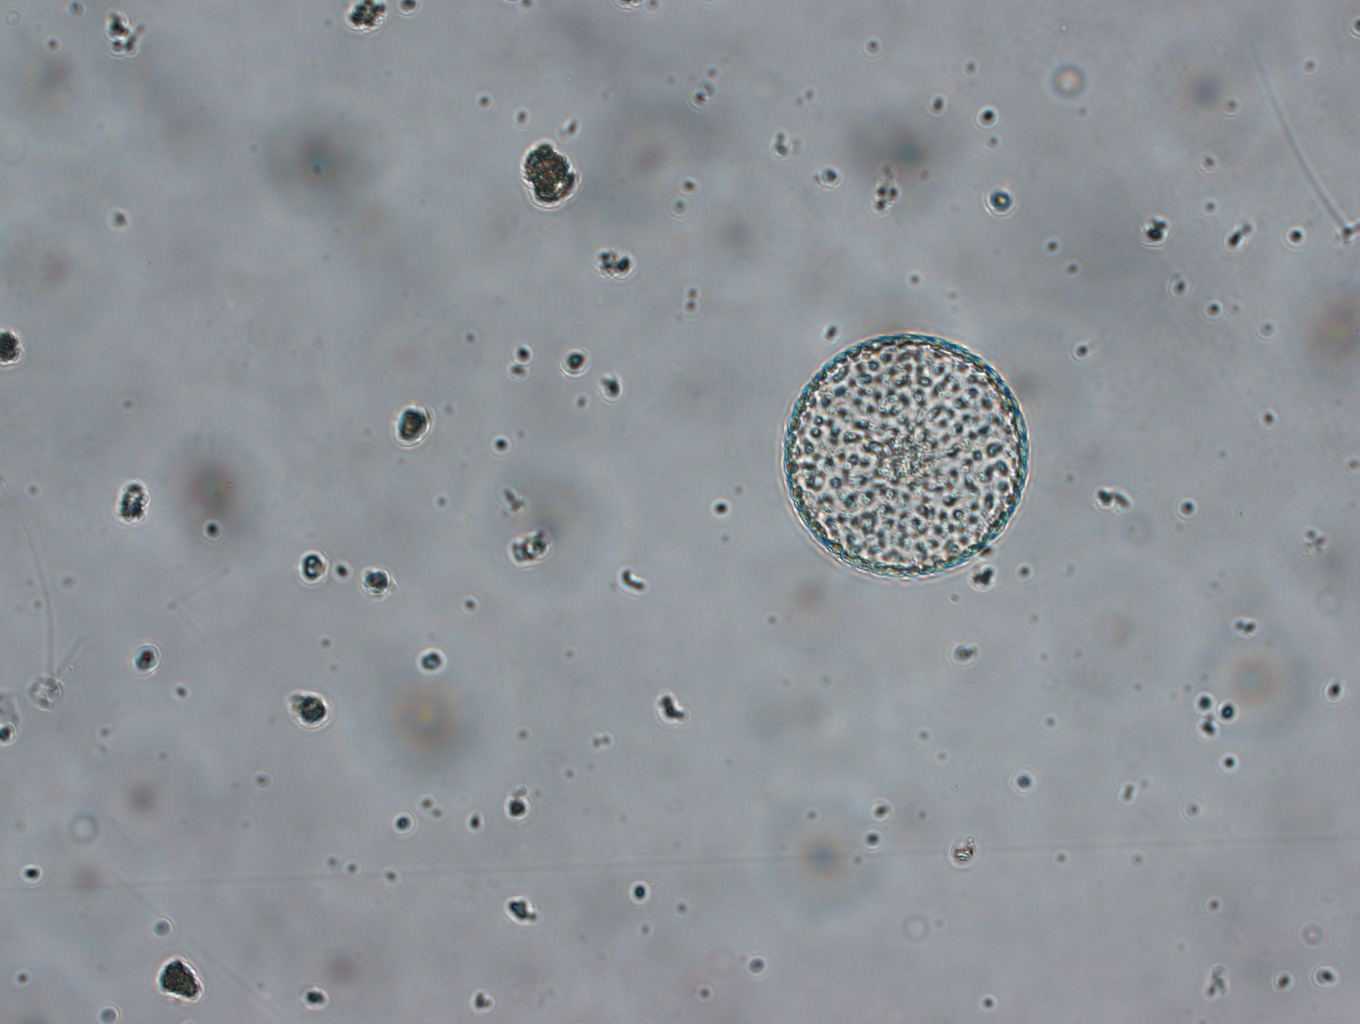coscinodiscus: (778, 322, 1034, 583)
